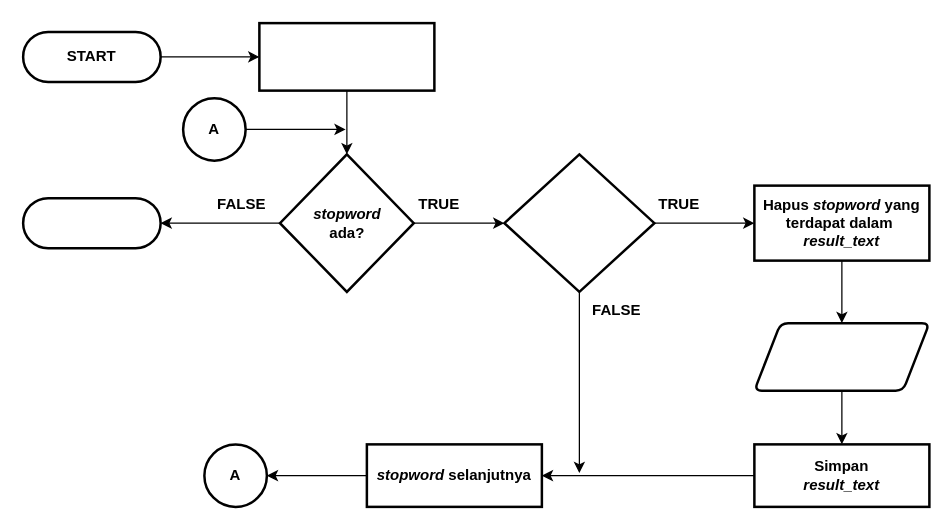
The diagram is 951 pixels wide and 529 high, and some of its shapes have lost their labels. The centre of each missing label's shape, as x and y in pixels:
"END" goes at pixel 91 222.
"Output result_text" goes at pixel 841 356.
"result_text mengandung stopword ?" goes at pixel 578 222.
"Select kamus stopword" goes at pixel 346 56.
